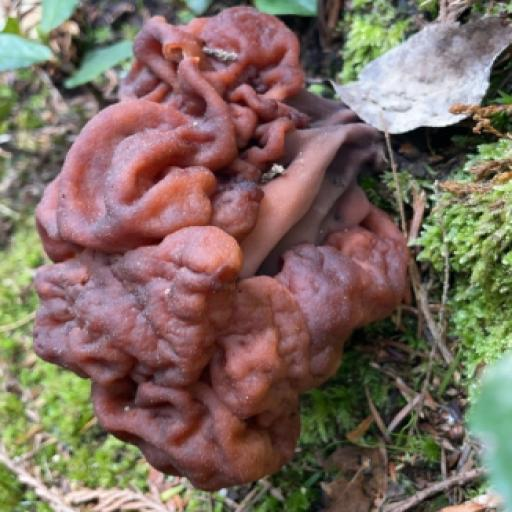mushroom: (26, 8, 415, 493)
